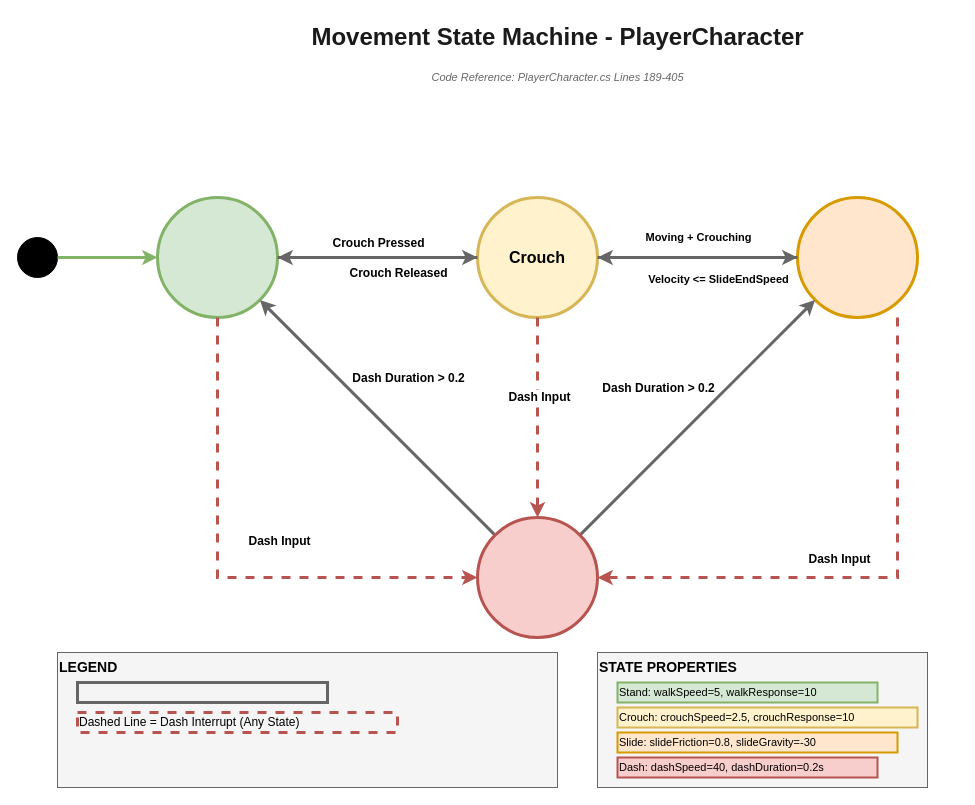
The diagram is 975 pixels wide and 805 high, and some of its shapes have lost their labels. The shapes that lost their labels are listed below. From the top down, each one's centre as x and y in pixels, then its label:
point (217, 257): Stand
point (857, 257): Slide
point (537, 577): Dash
point (202, 692): Solid Line = Normal State Transition
